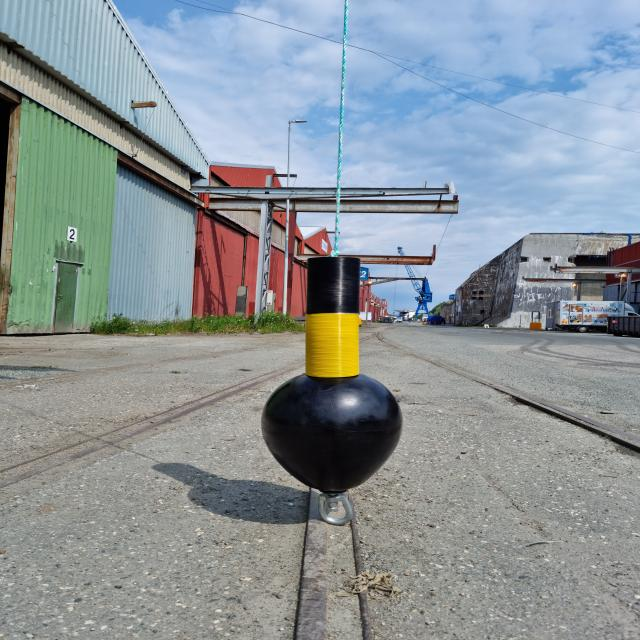east: (259, 257, 404, 493)
